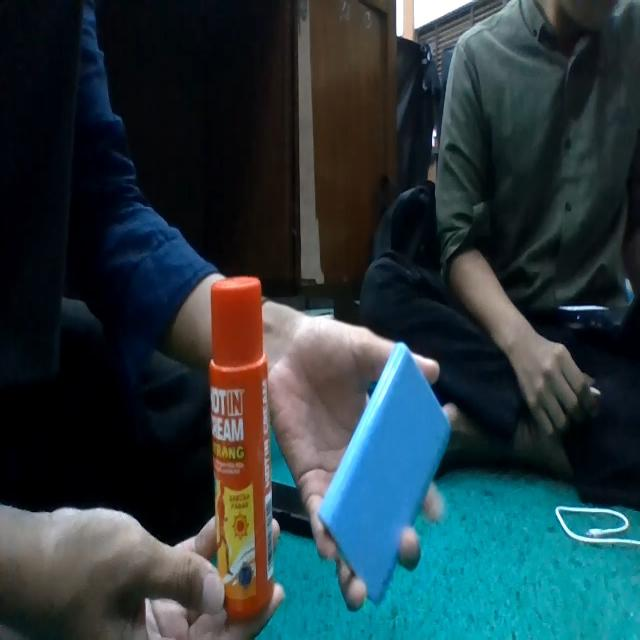Boncabe: (209, 277, 274, 622)
Powerbank: (318, 342, 450, 604)
